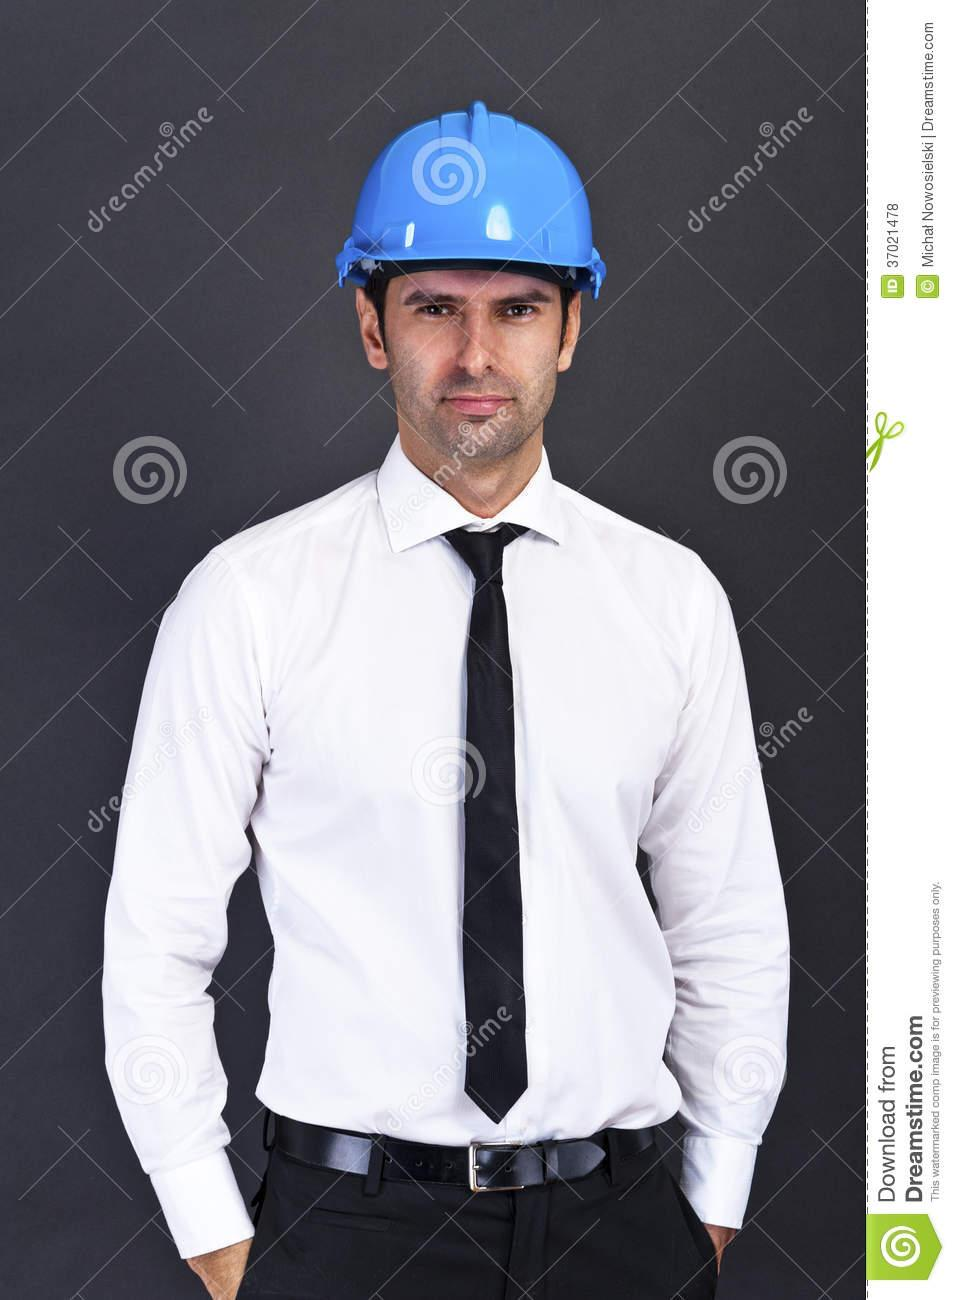helmet: (337, 101, 606, 298)
